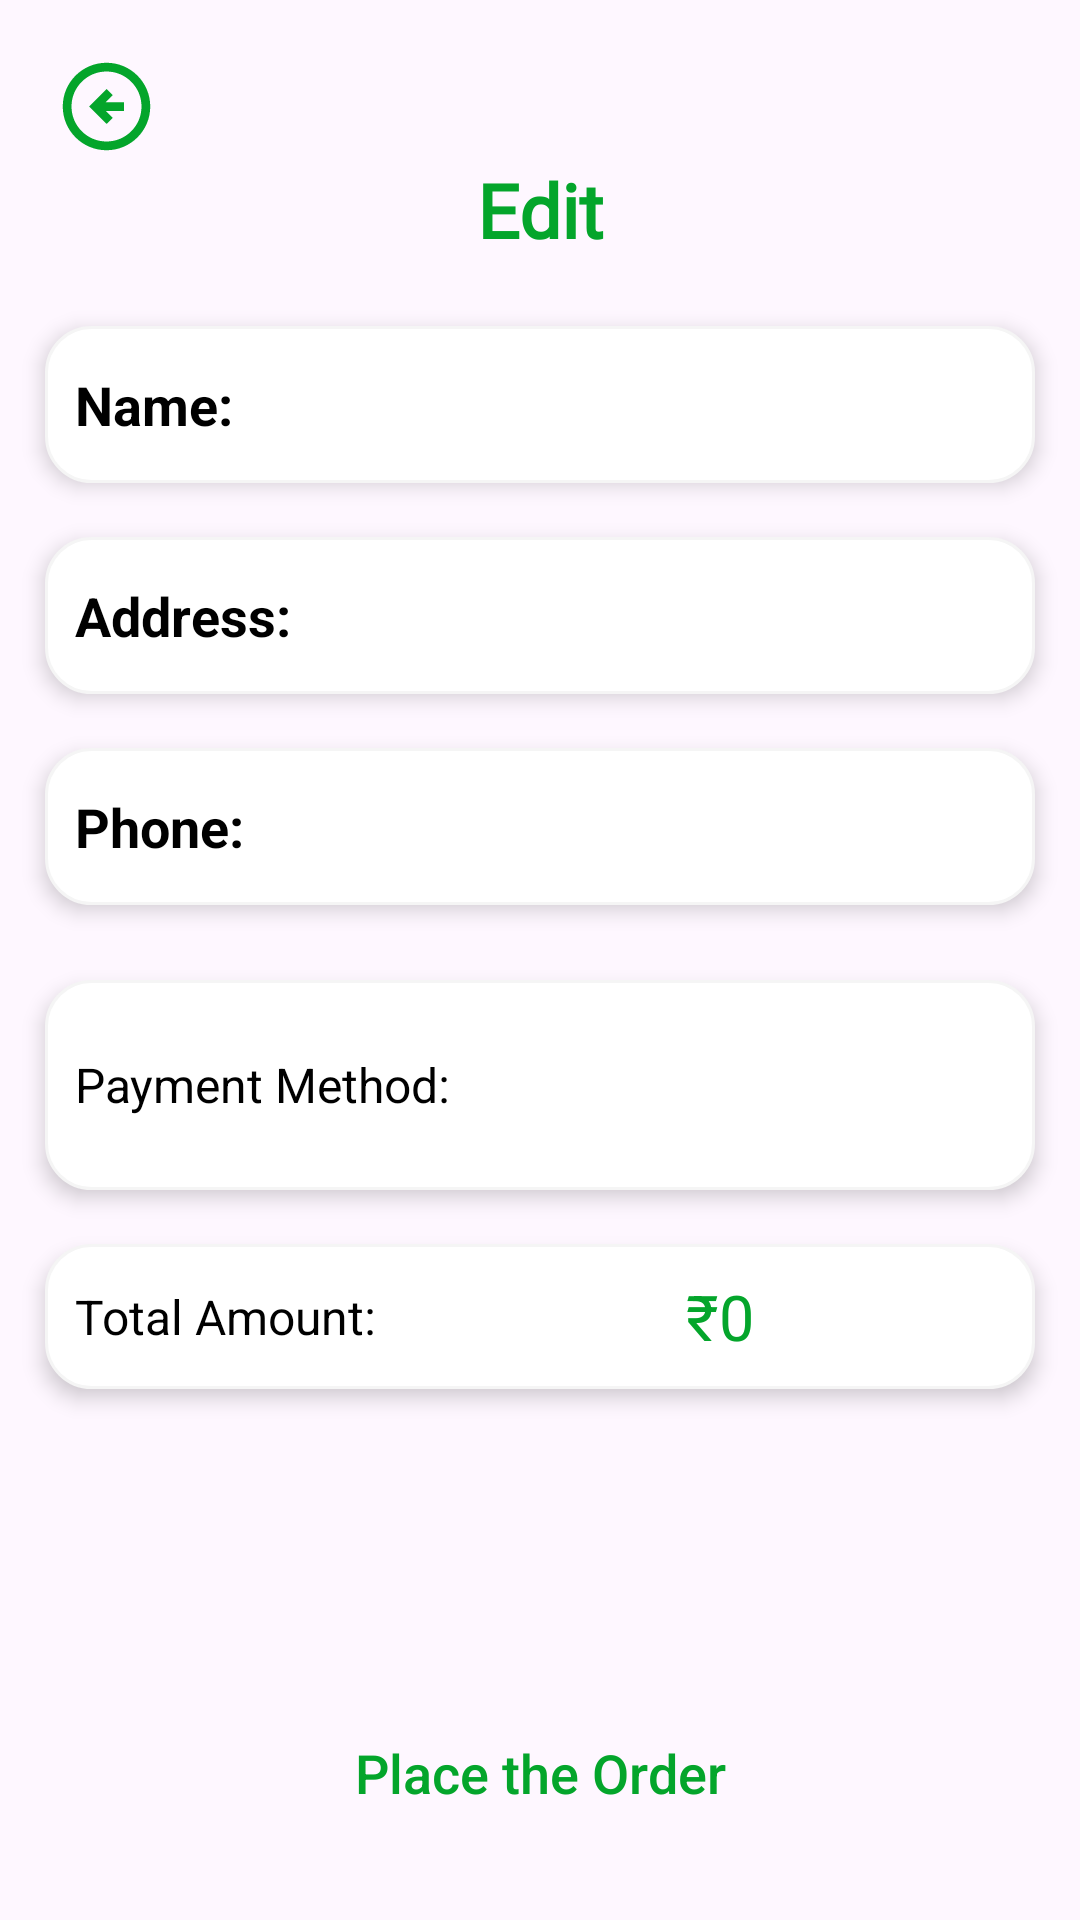

Screen size 1080*1920. Icon name, then its box in pixels as BBox(x1, y1, x2, y2):
arrow left: BBox(62, 62, 151, 151)
